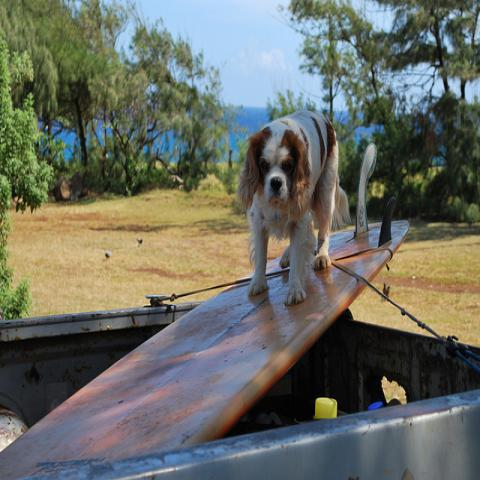truck: (2, 300, 480, 479)
